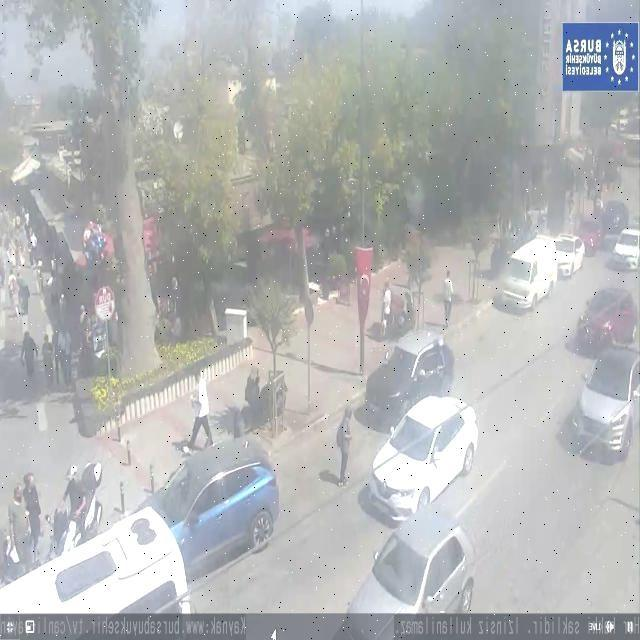Car: (139, 442, 280, 580), (344, 510, 476, 640), (368, 396, 478, 520), (363, 328, 456, 419), (574, 348, 639, 458), (576, 285, 636, 350), (554, 232, 586, 279), (609, 229, 640, 270)
Van: (496, 238, 556, 312)
